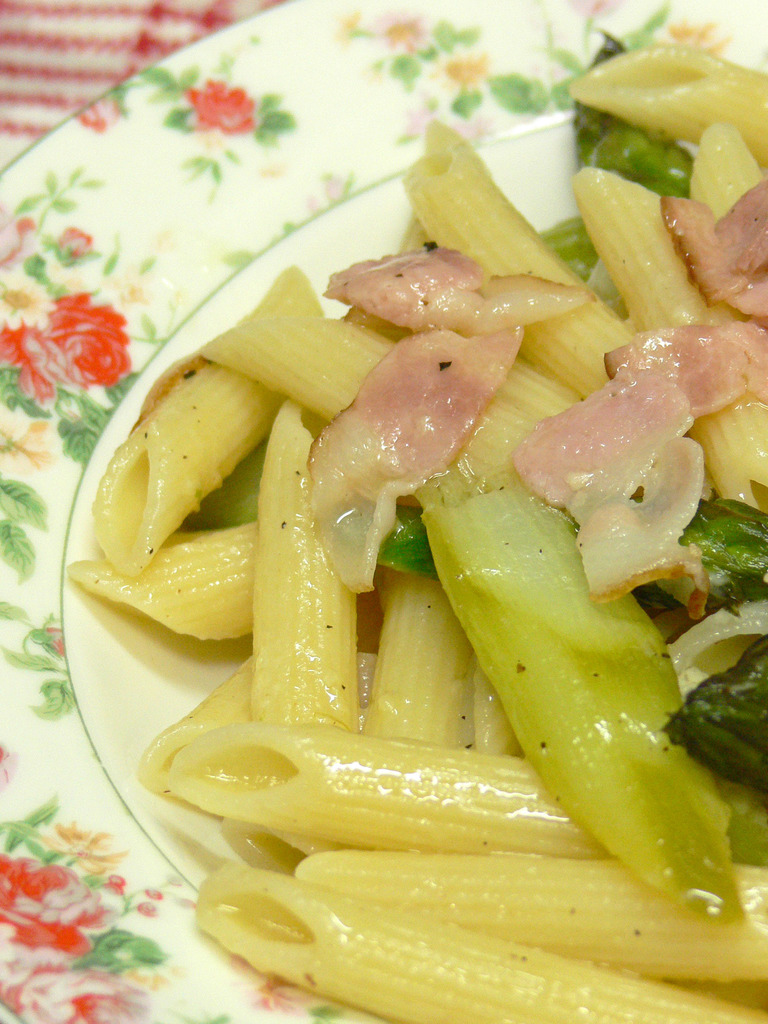pasta: (84, 42, 768, 1024)
